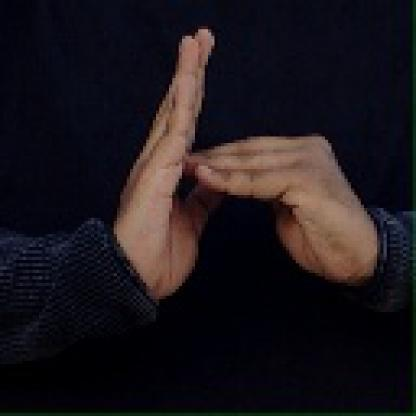Z: (104, 26, 368, 310)
